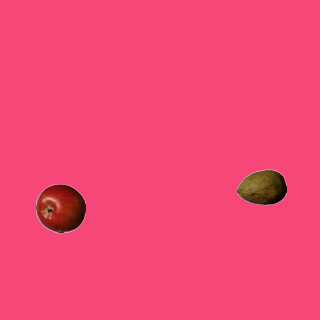Apple Braeburn: (35, 183, 85, 233)
Papaya: (236, 162, 286, 212)
